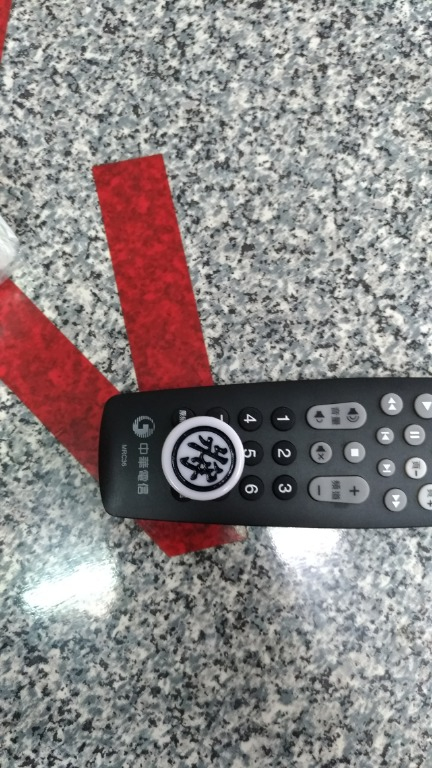b-king: (156, 407, 247, 508)
